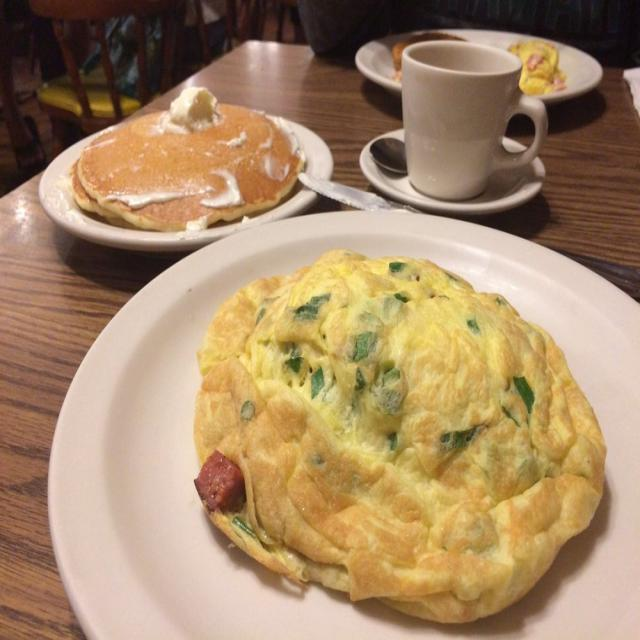Omelette: (188, 242, 615, 625)
Pancakes: (71, 104, 305, 233)
